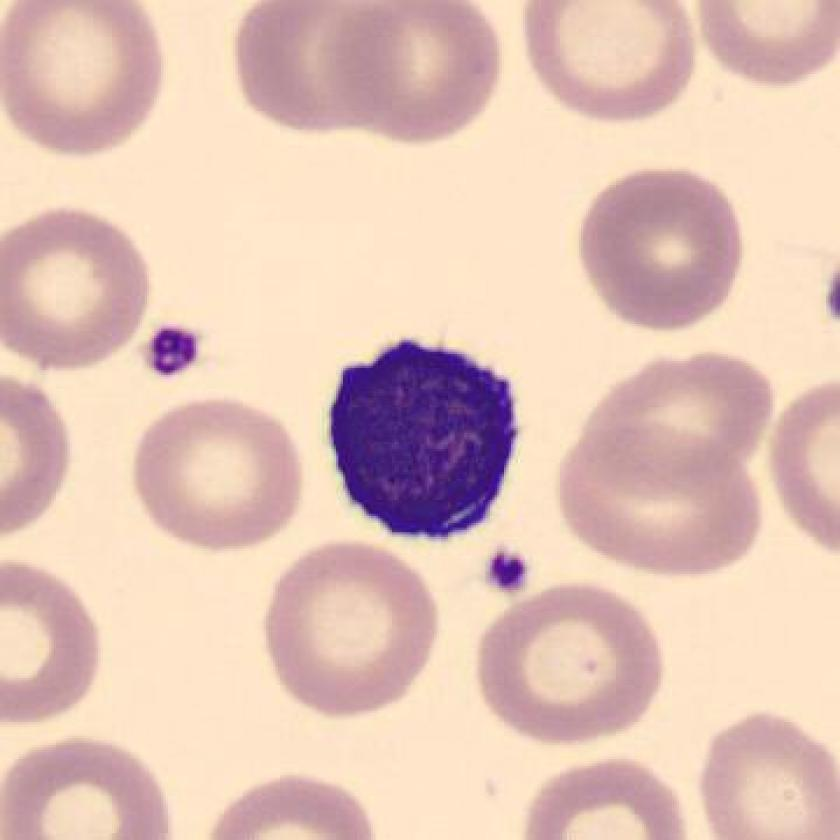lymphocyte: (302, 316, 547, 561)
